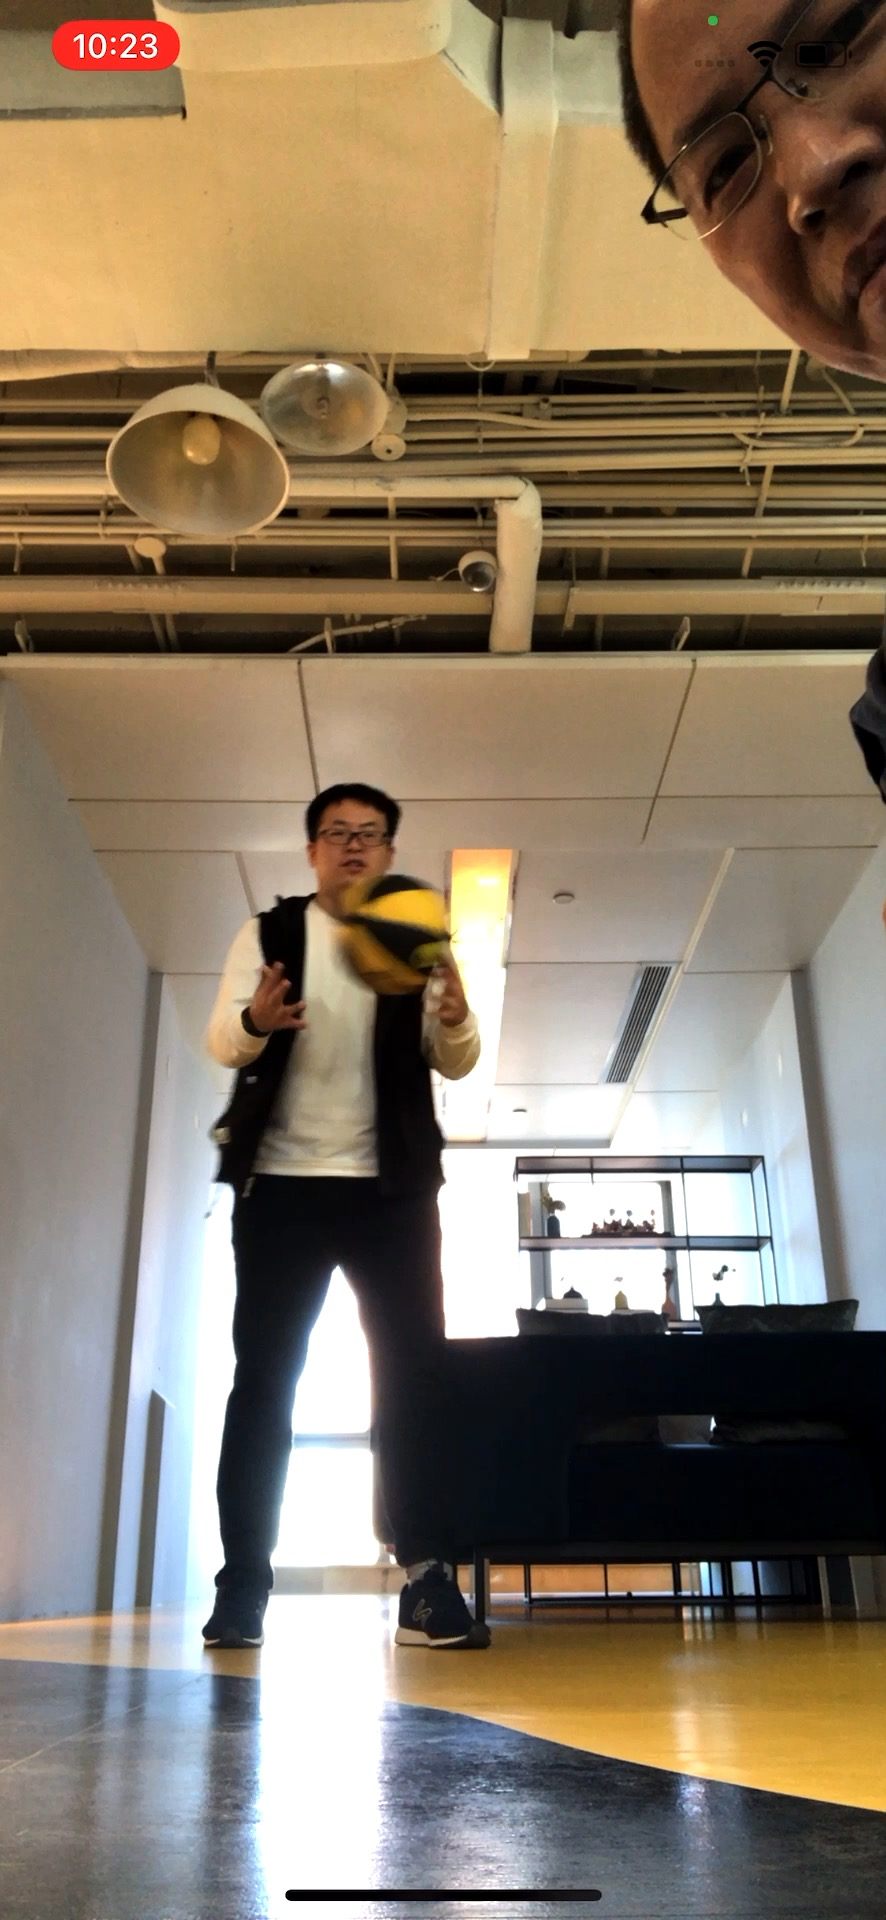ball: (339, 874, 459, 994)
